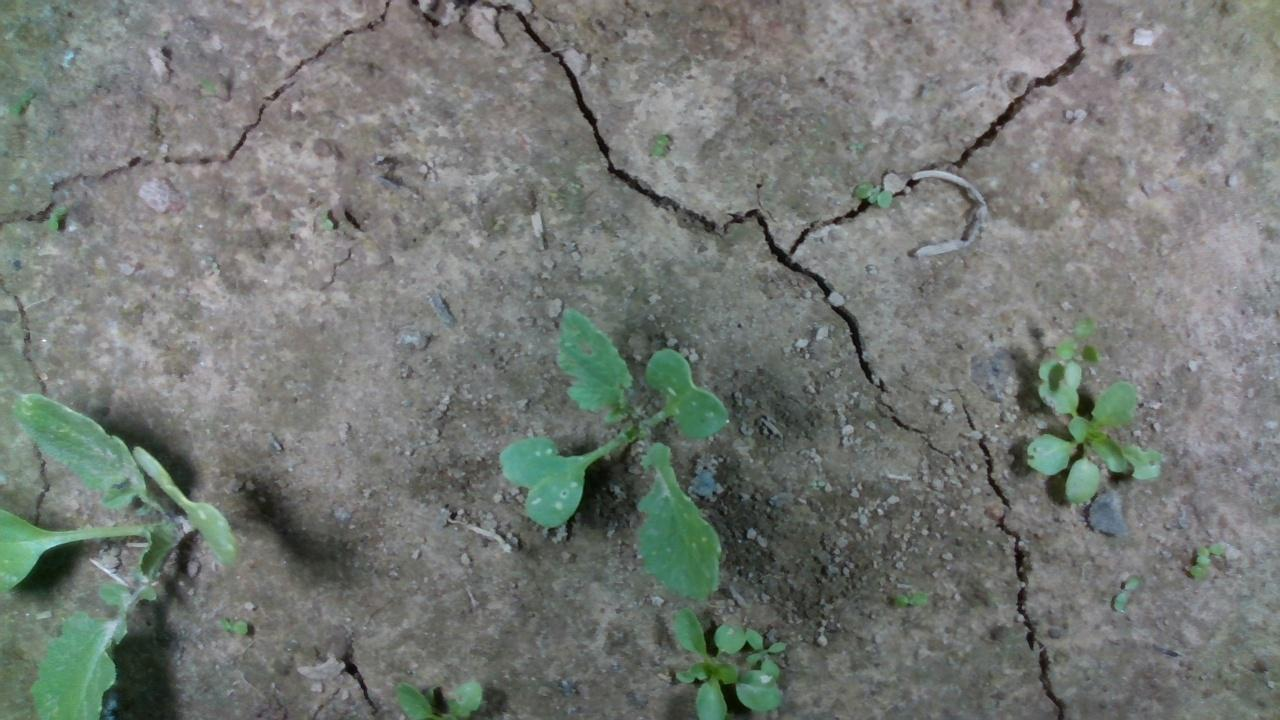weed: (35, 200, 83, 235), (641, 127, 679, 164), (1113, 575, 1137, 631), (892, 585, 938, 610), (851, 179, 890, 202), (843, 133, 868, 153)
